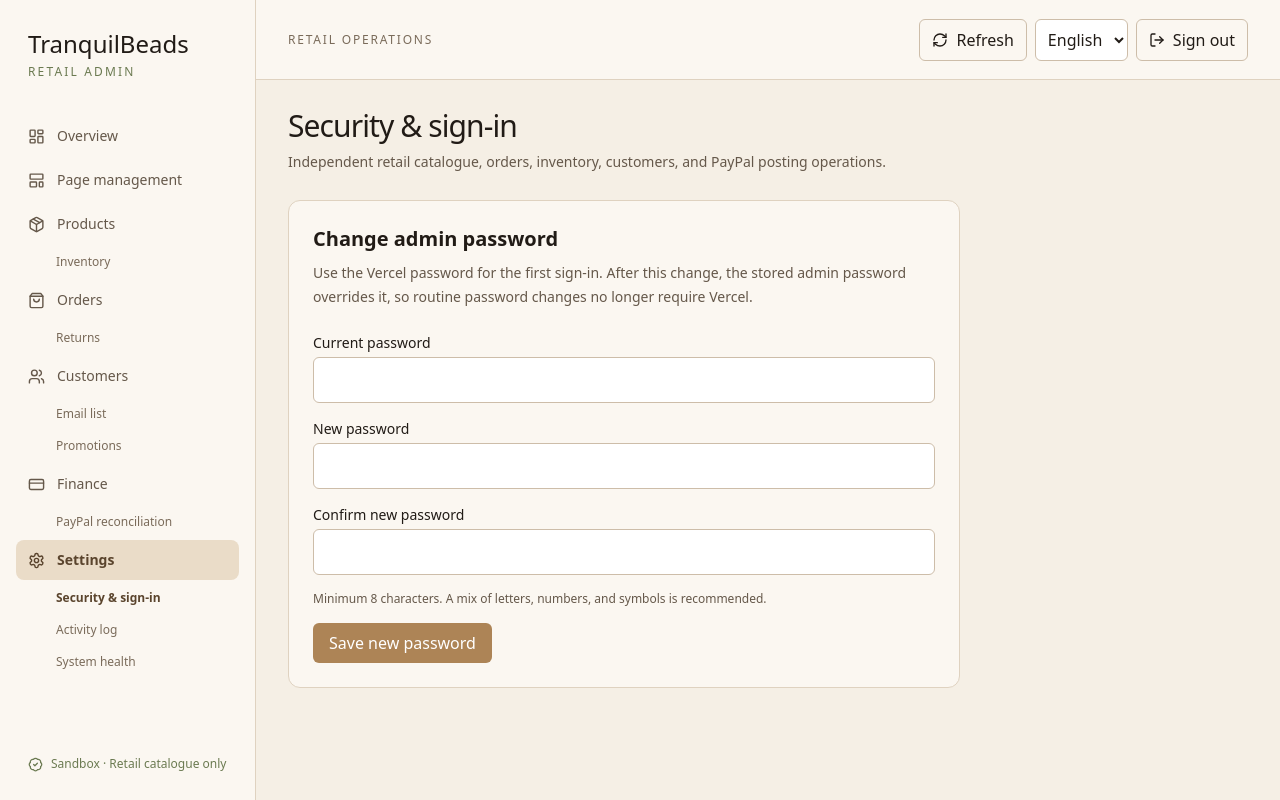
Test: retail admin console › changes the admin password from the security page and requires a fresh sign-in
Type "old-password" into the password field labelled "Current password" at (624, 380), box [313, 357, 935, 403]
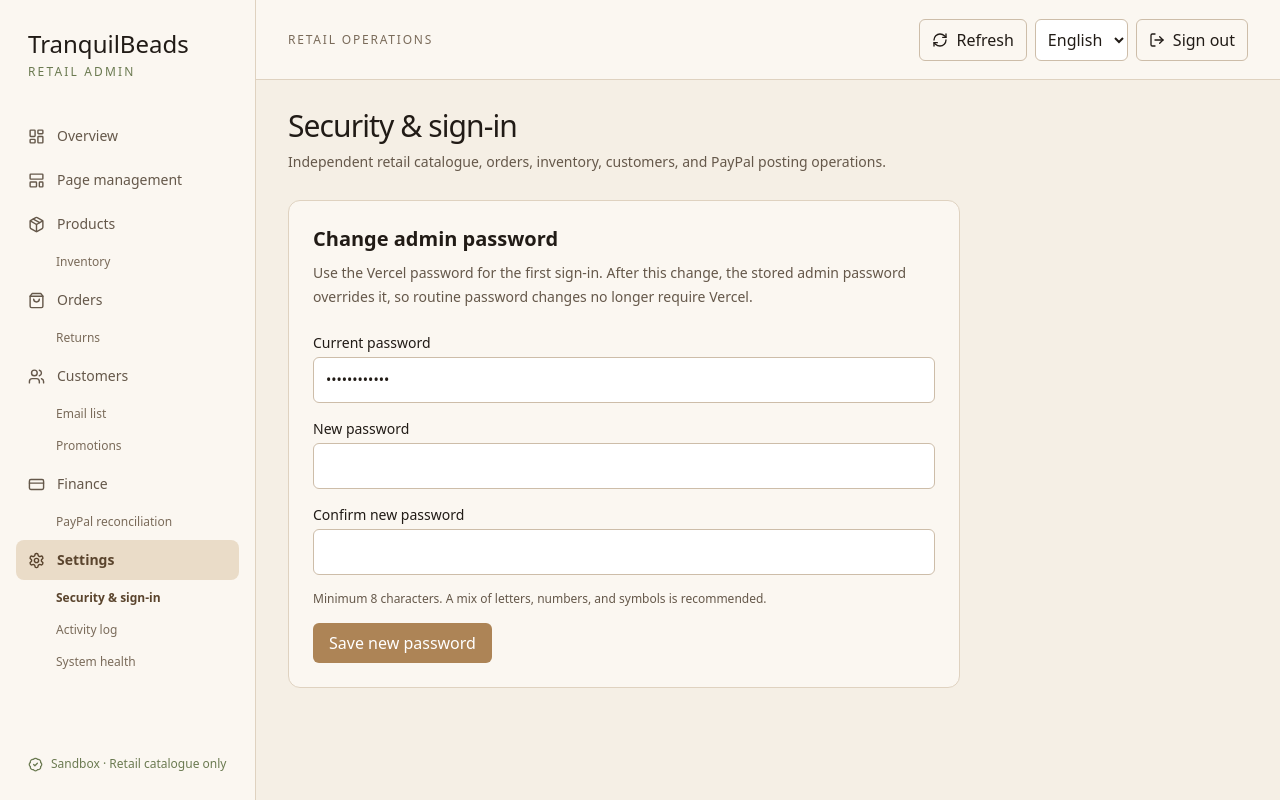
Type "new-password" into the password field labelled "New password" at (624, 466), box [313, 443, 935, 489]
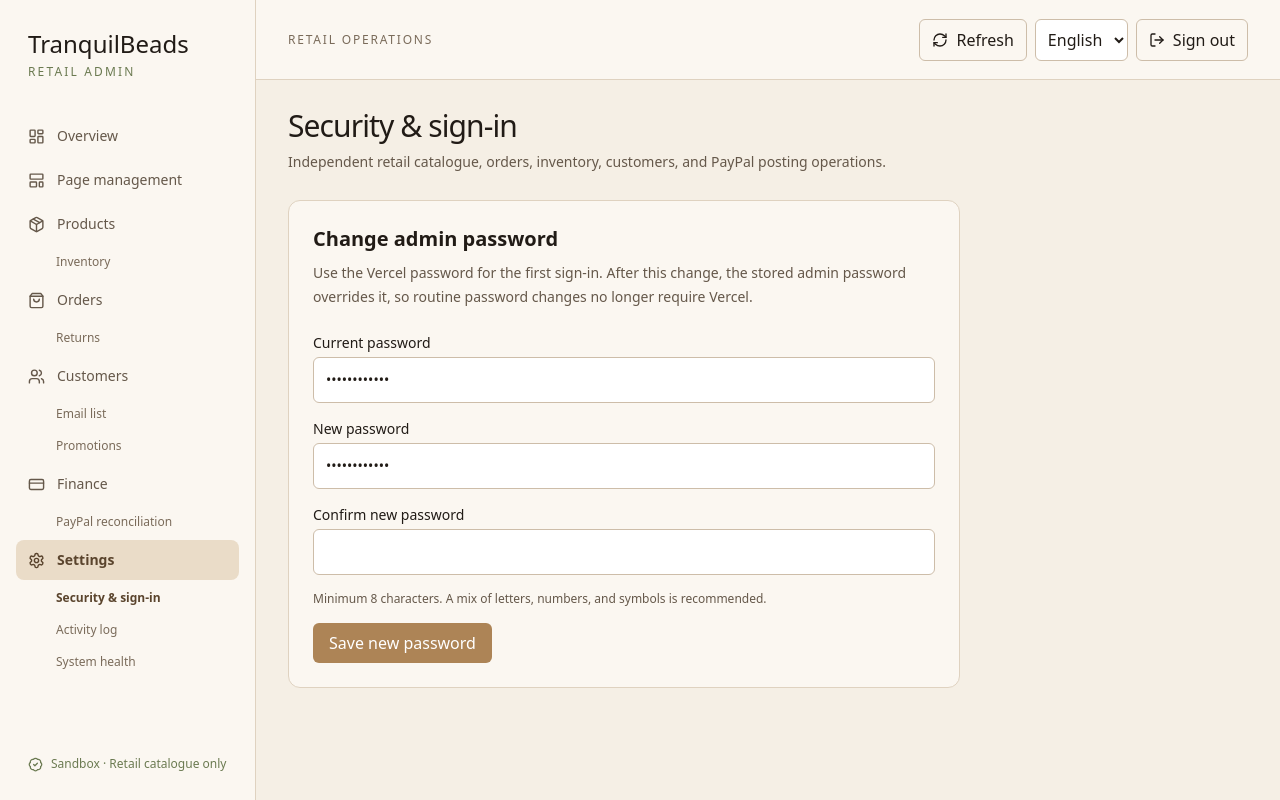
Type "new-password" into the password field labelled "Confirm new password" at (624, 552), box [313, 529, 935, 575]
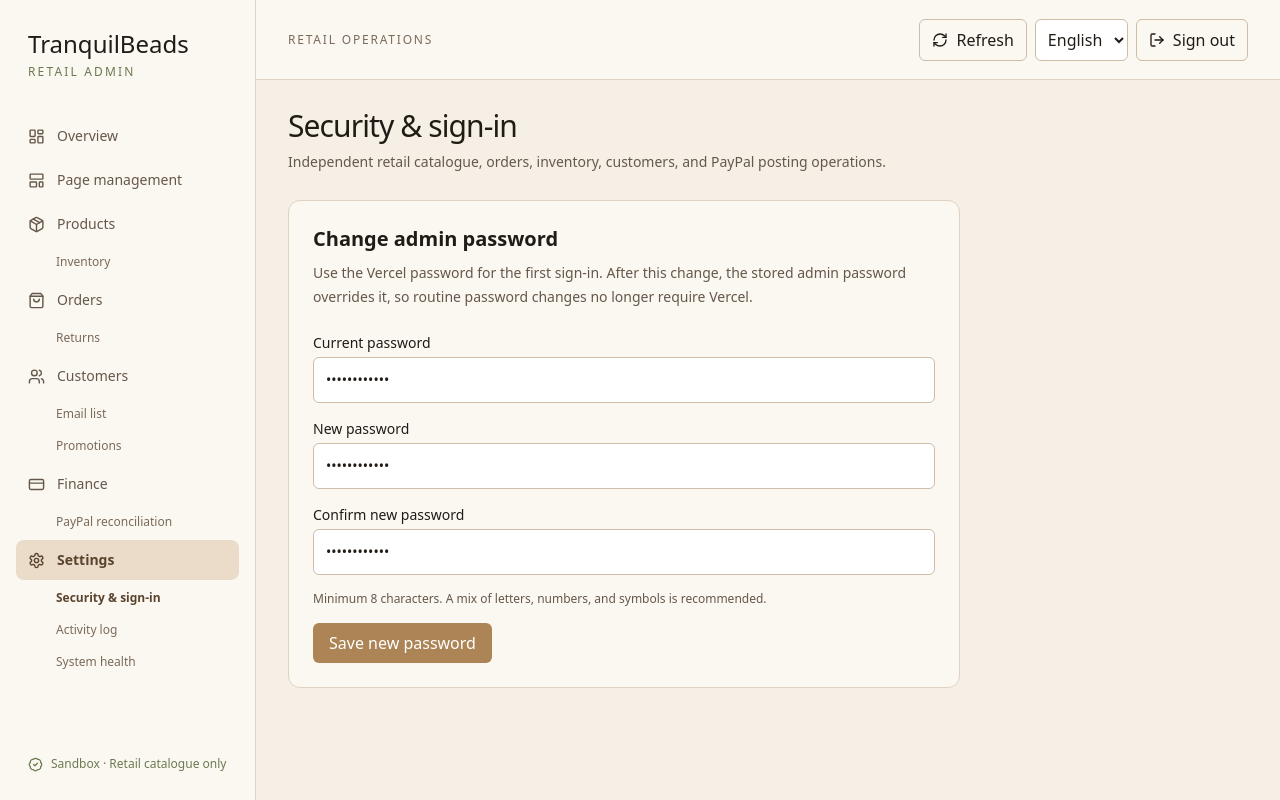
Click the button "Save new password" at (402, 643), box [313, 623, 492, 663]
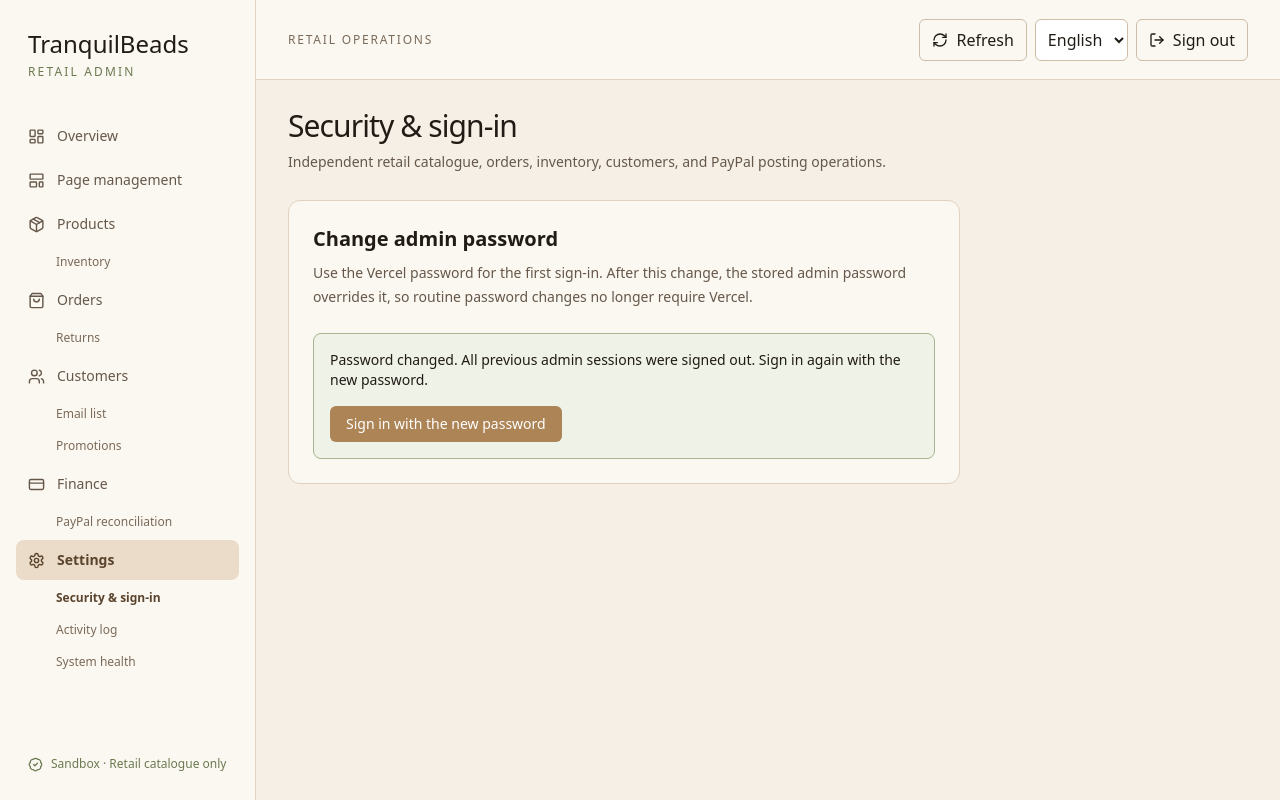
Expected: the text "Password changed" is shown, [330, 350, 901, 389]
